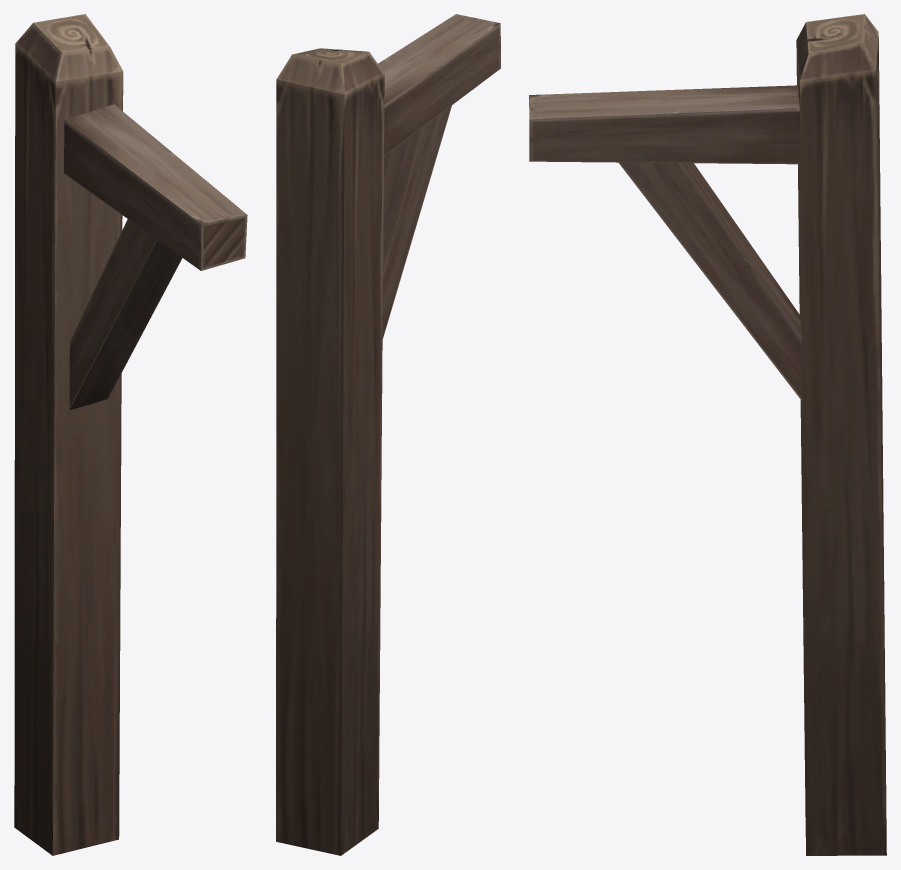
The model's file is bandit_wood_arm_02.fbx.
3 renders of one model, left to right at view 1: azimuth 30°, elevation 25°; view 2: azimuth 150°, elevation 25°; view 3: azimuth 270°, elevation 25°, orthographic. The views are drawn at different scales.
Parts seen in each view (by area): view 1: obj0.698; view 2: obj0.698; view 3: obj0.698.
Boxes of the visible parts, x1=… form: obj0.698: x1=14, y1=14, x2=247, y2=855; obj0.698: x1=276, y1=14, x2=500, y2=855; obj0.698: x1=529, y1=14, x2=886, y2=855.
Size of the model in its own units: 0.3881 by 4.15 by 1.65.
